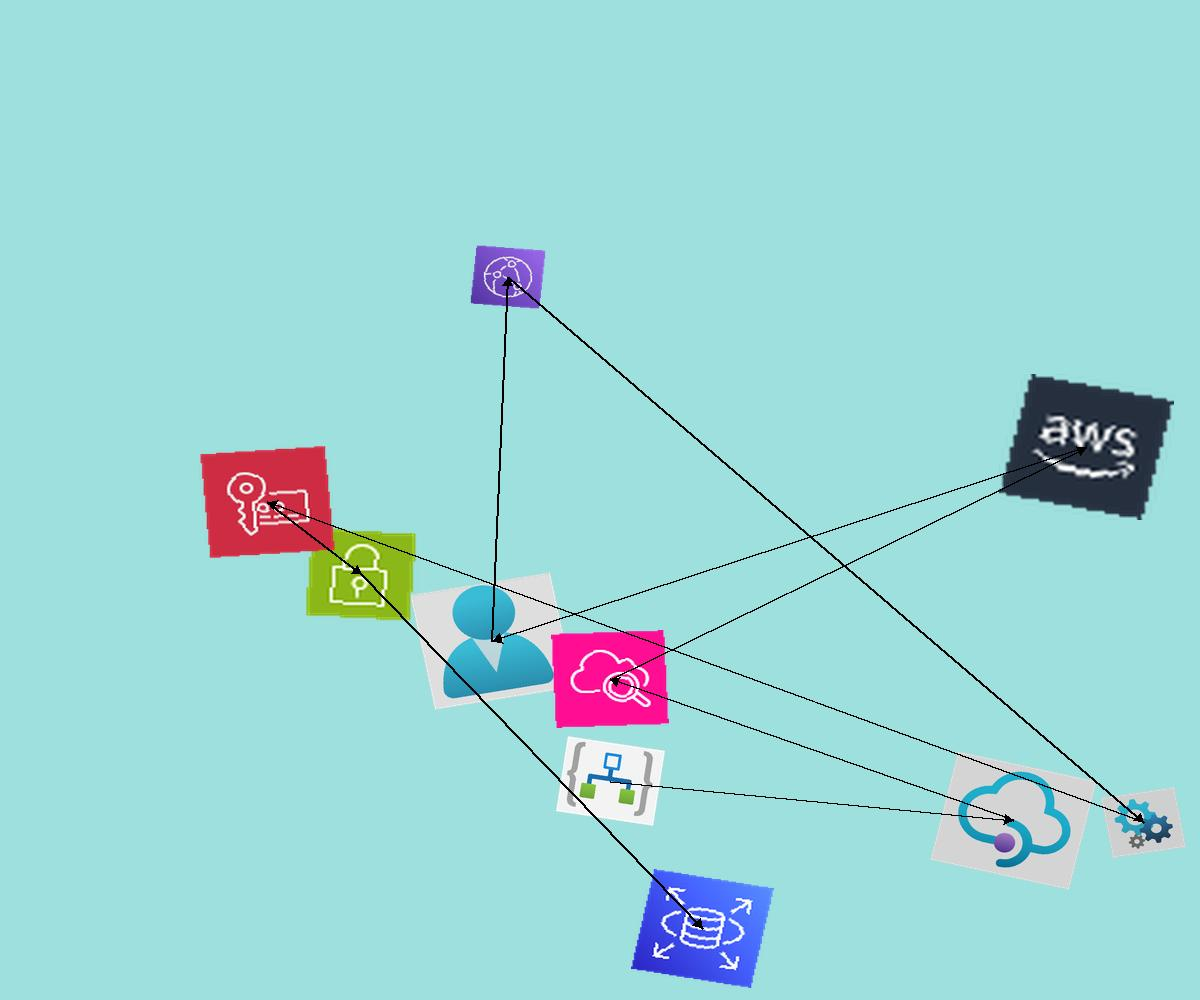AWS-Cloud-logo: (999, 374, 1174, 520)
AWS-CloudFront: (470, 245, 546, 309)
AWS-CloudWatch: (551, 630, 669, 728)
AWS-Key-Management-Service: (199, 445, 336, 559)
AWS-Public-subnet: (304, 527, 418, 622)
AWS-RDS: (631, 869, 774, 988)
Azure_api: (1101, 787, 1186, 858)
Azure_api_gateway: (930, 751, 1097, 890)
Azure_integration-204-Logic-Apps: (556, 736, 665, 826)
Azure_users: (410, 572, 575, 710)
